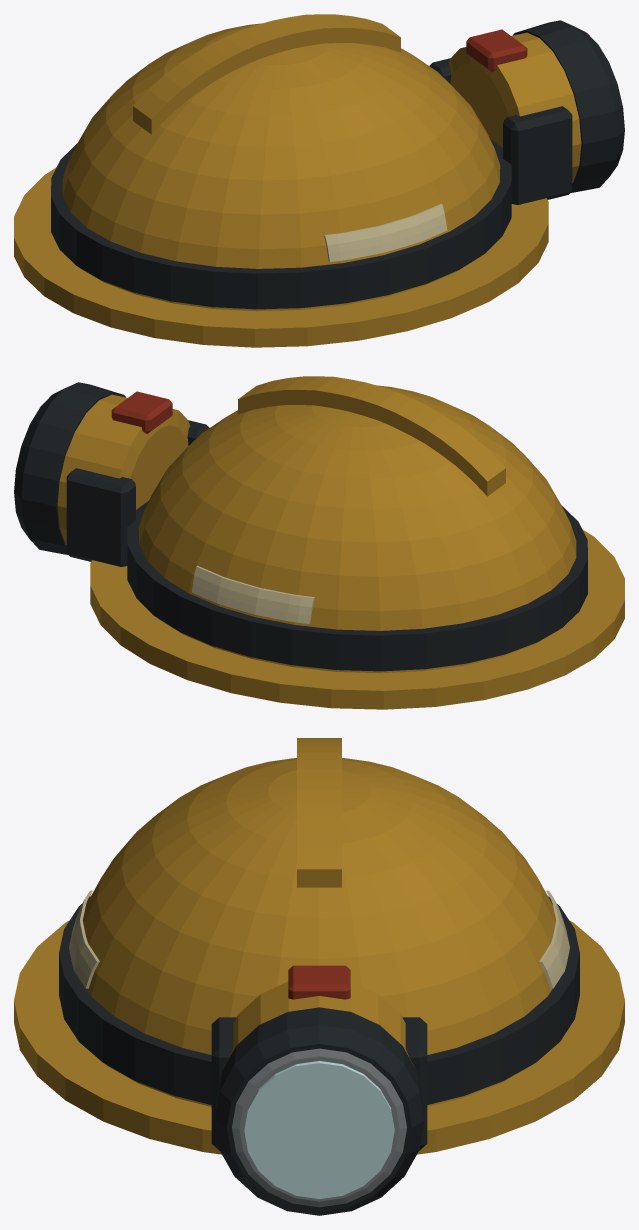
The model's file is SM_Headlamp_A.fbx.
3 views of the same model, one above another, from view 1: azimuth 30°, elevation 25°; view 2: azimuth 150°, elevation 25°; view 3: azimuth 270°, elevation 25° (orthographic). The views are drawn at different scales.
Parts seen in each view (by area): view 1: SM_Headlamp_A; view 2: SM_Headlamp_A; view 3: SM_Headlamp_A.
Part boxes in pixels (box(x1,y1,x2,y2)): SM_Headlamp_A: box(14, 14, 624, 347); SM_Headlamp_A: box(14, 376, 624, 709); SM_Headlamp_A: box(14, 738, 624, 1215).
Bounding box in the file's own units: 24.4 × 30.5 × 12.13.
